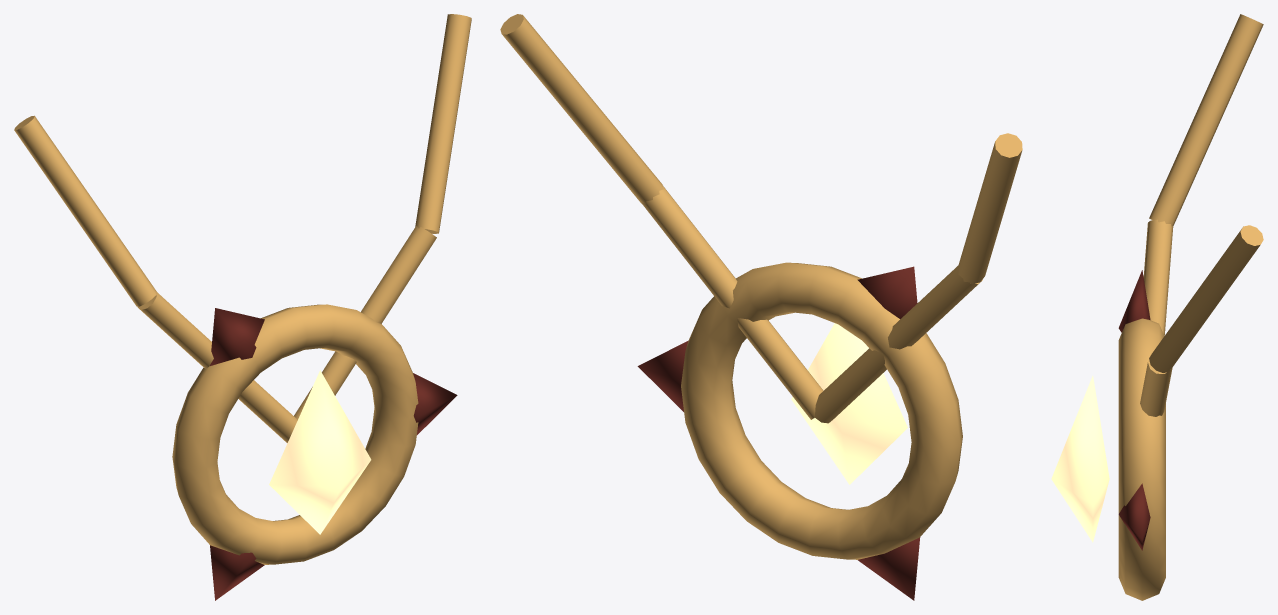
Rendered from boss_dragonforge_accessory_3.glb.
3 views of the same model, side by side, from view 1: azimuth 30°, elevation 25°; view 2: azimuth 150°, elevation 25°; view 3: azimuth 270°, elevation 25° (orthographic). The views are drawn at different scales.
Visible parts, largest first — view 1: Boss_dragonforge_1, Boss_dragonforge_2, Boss_dragonforge_0; view 2: Boss_dragonforge_1, Boss_dragonforge_2, Boss_dragonforge_0; view 3: Boss_dragonforge_1, Boss_dragonforge_2, Boss_dragonforge_0.
Boxes of the visible parts, x1,y1,x2,y2 form: Boss_dragonforge_1: (14,14,471,564); Boss_dragonforge_2: (269,370,371,534); Boss_dragonforge_0: (210,308,457,600); Boss_dragonforge_1: (500,14,1022,559); Boss_dragonforge_2: (791,323,907,484); Boss_dragonforge_0: (637,266,920,600); Boss_dragonforge_1: (1118,14,1263,600); Boss_dragonforge_2: (1051,375,1109,542); Boss_dragonforge_0: (1118,270,1150,550).
Bounding box in the file's own units: 0.2925 × 0.2941 × 0.1162.
